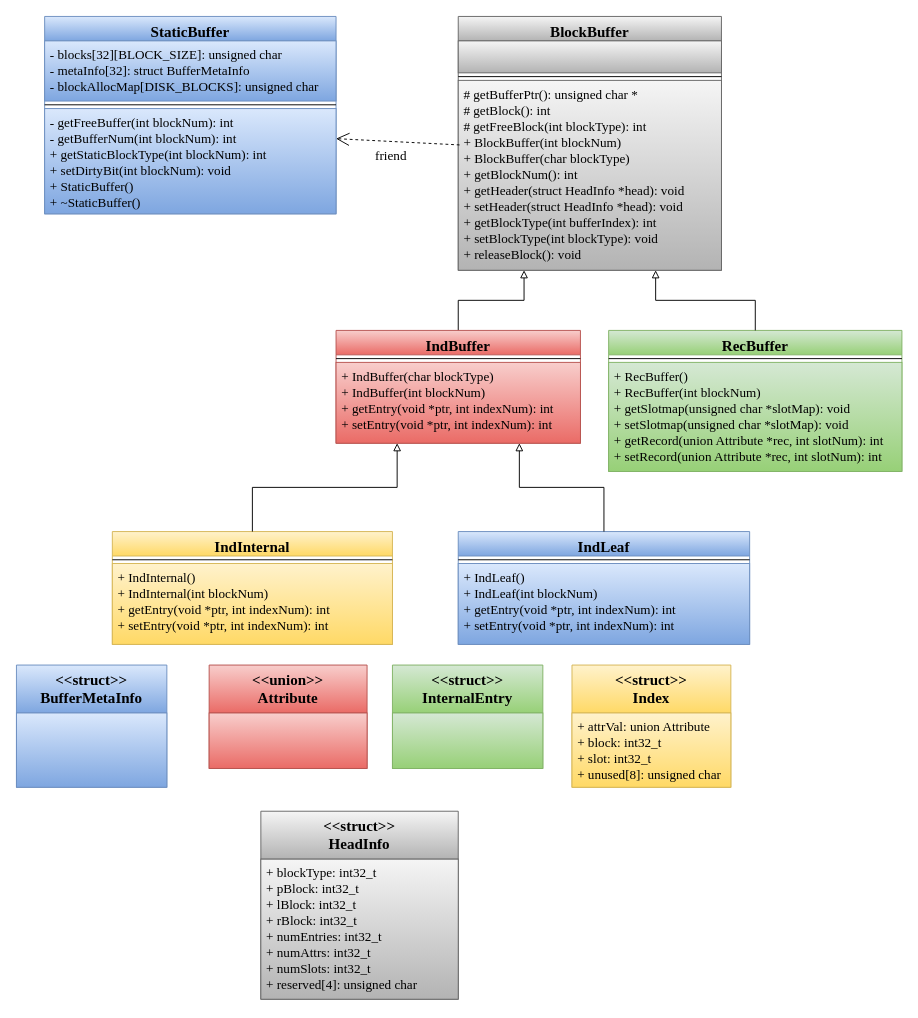
Some shapes in this 918 by 1018 pixel diagram are drawn without their labels. The centre of each missing label's shape, as x and y in pixels:
# blockNum: int: point (589, 56)
+ free: bool + dirty: bool + blockNum: int + timestamp: int: point (91, 749)
+ iVal: int + fVal: int + strVal[ATTR_SIZE]: char: point (287, 740)
+ lChild: int32_t + attrVal: union Attribute + rChild: int32_t: point (467, 740)
